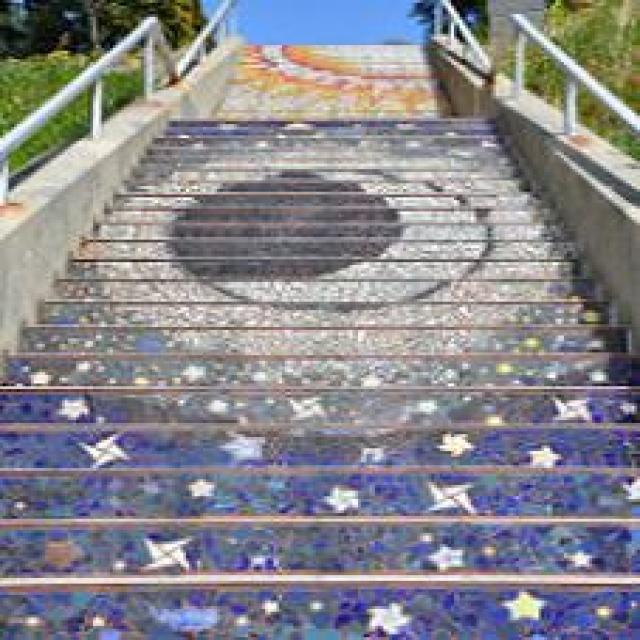stair: (6, 307, 634, 612)
